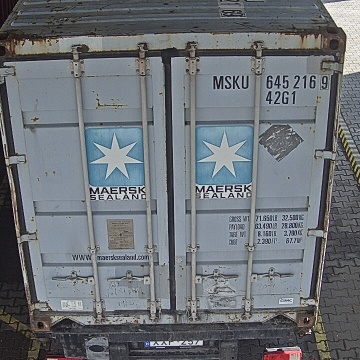serial_id: (213, 75, 329, 89)
